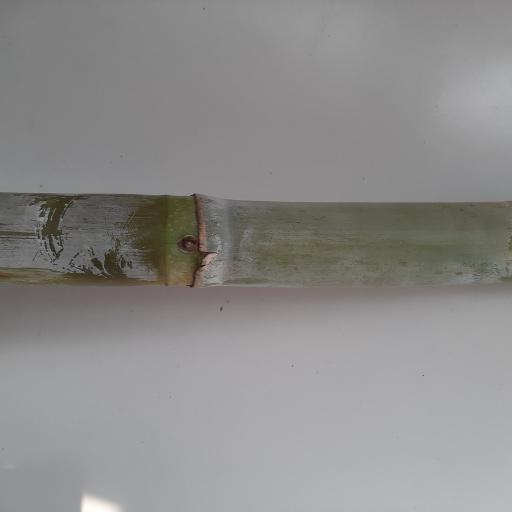Bud: (177, 235, 197, 253)
